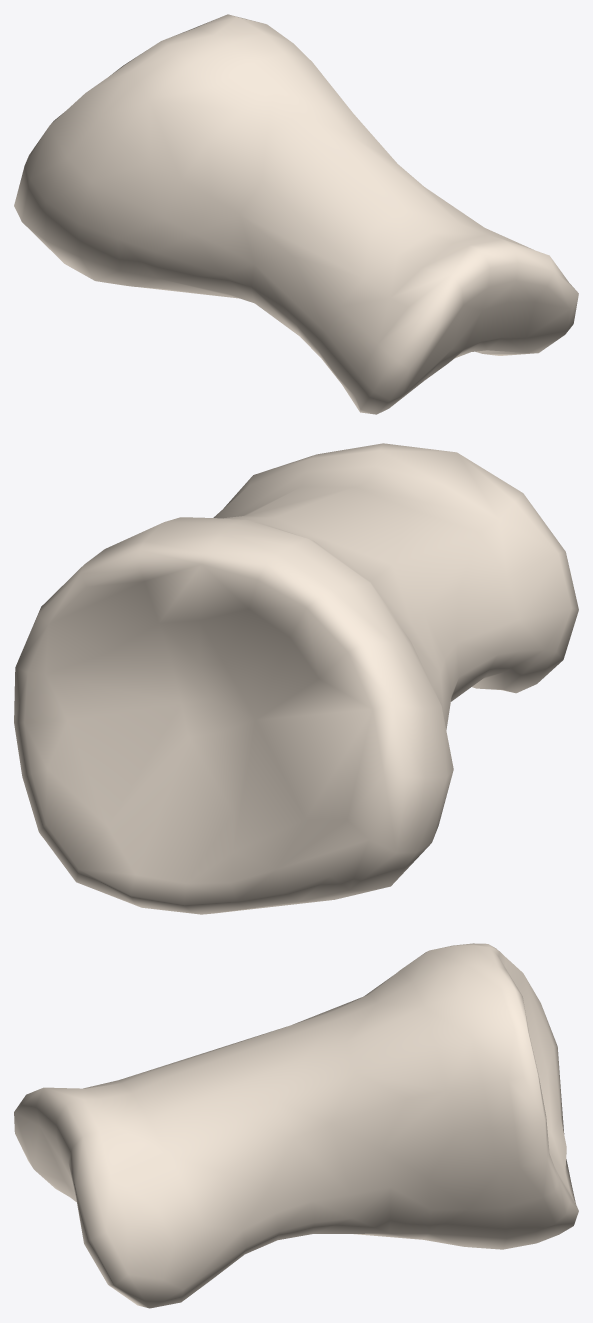
The model's file is left_toe_1_proximal.glb.
3 renders of one model, top to bottom at view 1: azimuth 30°, elevation 25°; view 2: azimuth 150°, elevation 25°; view 3: azimuth 270°, elevation 25°, orthographic. The views are drawn at different scales.
Visible parts, largest first — view 1: Proximal phalanx of first finger of foot.r; view 2: Proximal phalanx of first finger of foot.r; view 3: Proximal phalanx of first finger of foot.r.
Part boxes in pixels (x1=…): Proximal phalanx of first finger of foot.r: x1=14, y1=14, x2=578, y2=414; Proximal phalanx of first finger of foot.r: x1=14, y1=443, x2=578, y2=914; Proximal phalanx of first finger of foot.r: x1=14, y1=943, x2=578, y2=1308.
Bounding box in the file's own units: 0.0254 × 0.0172 × 0.0334.
